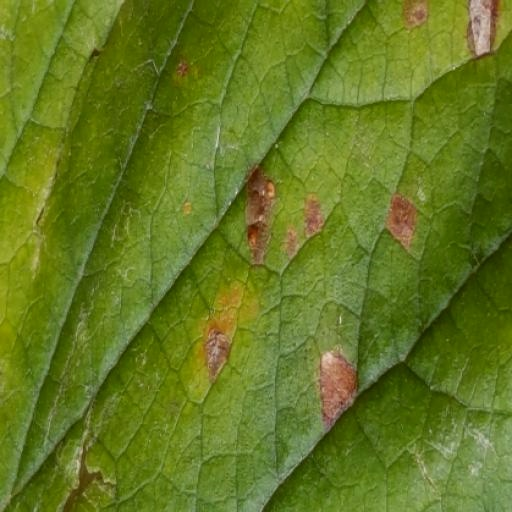Angular Leafspot: (159, 0, 511, 433)
